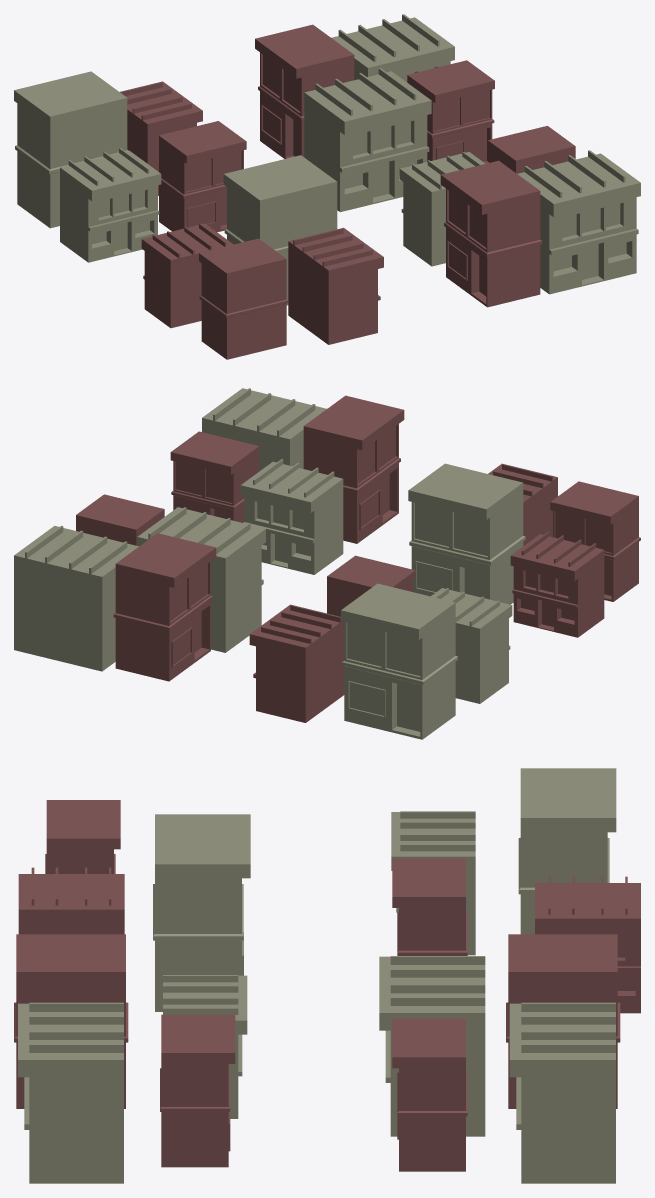
The model's file is Houses.fbx.
3 views of the same model, one above another, from view 1: azimuth 30°, elevation 25°; view 2: azimuth 150°, elevation 25°; view 3: azimuth 270°, elevation 25° (orthographic). The views are drawn at different scales.
Parts seen in each view (by area): view 1: Houses; view 2: Houses; view 3: Houses.
Part boxes in pixels (<box>): Houses: <box>14,14,640,359</box>; Houses: <box>14,388,640,739</box>; Houses: <box>14,768,640,1183</box>.
Size of the model in its own units: 1580 by 432 by 1567.
